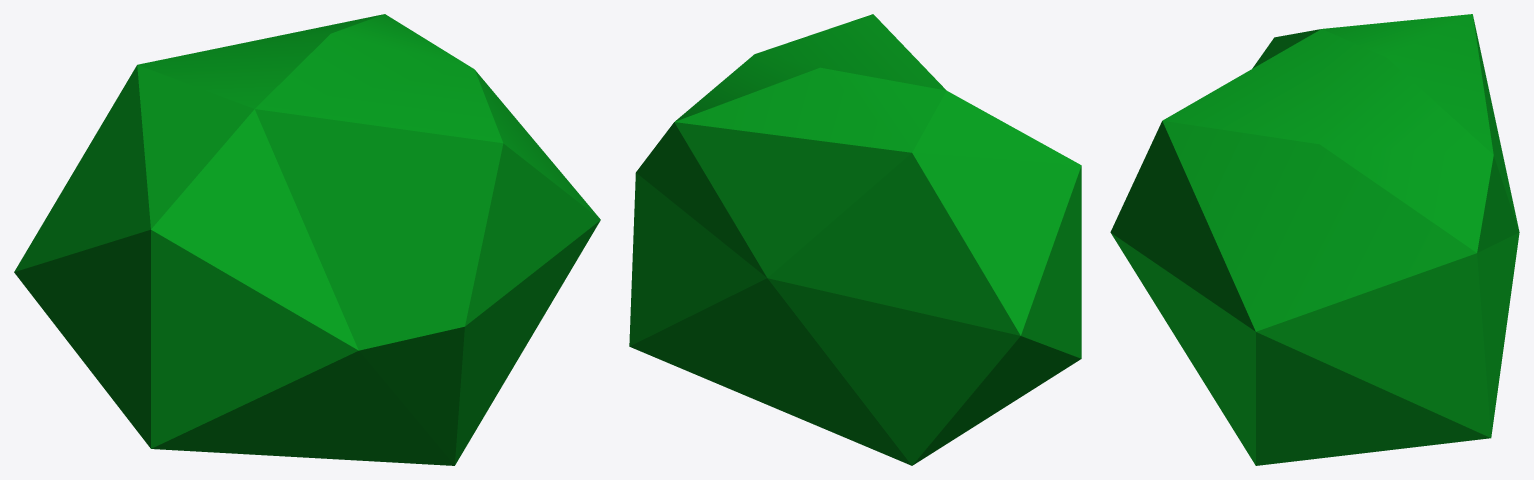
Rendered from Bush1.fbx.
3 views of the same model, side by side, from view 1: azimuth 30°, elevation 25°; view 2: azimuth 150°, elevation 25°; view 3: azimuth 270°, elevation 25° (orthographic). The views are drawn at different scales.
Visible parts, largest first — view 1: Bush1; view 2: Bush1; view 3: Bush1.
Boxes of the visible parts, left/top/right/bottom form: Bush1: left=14, top=14, right=600, bottom=465; Bush1: left=629, top=14, right=1081, bottom=465; Bush1: left=1110, top=14, right=1519, bottom=465.
Size of the model in its own units: 2.38 by 1.9 by 1.84.
Materials: 1 (1 with a texture image).
